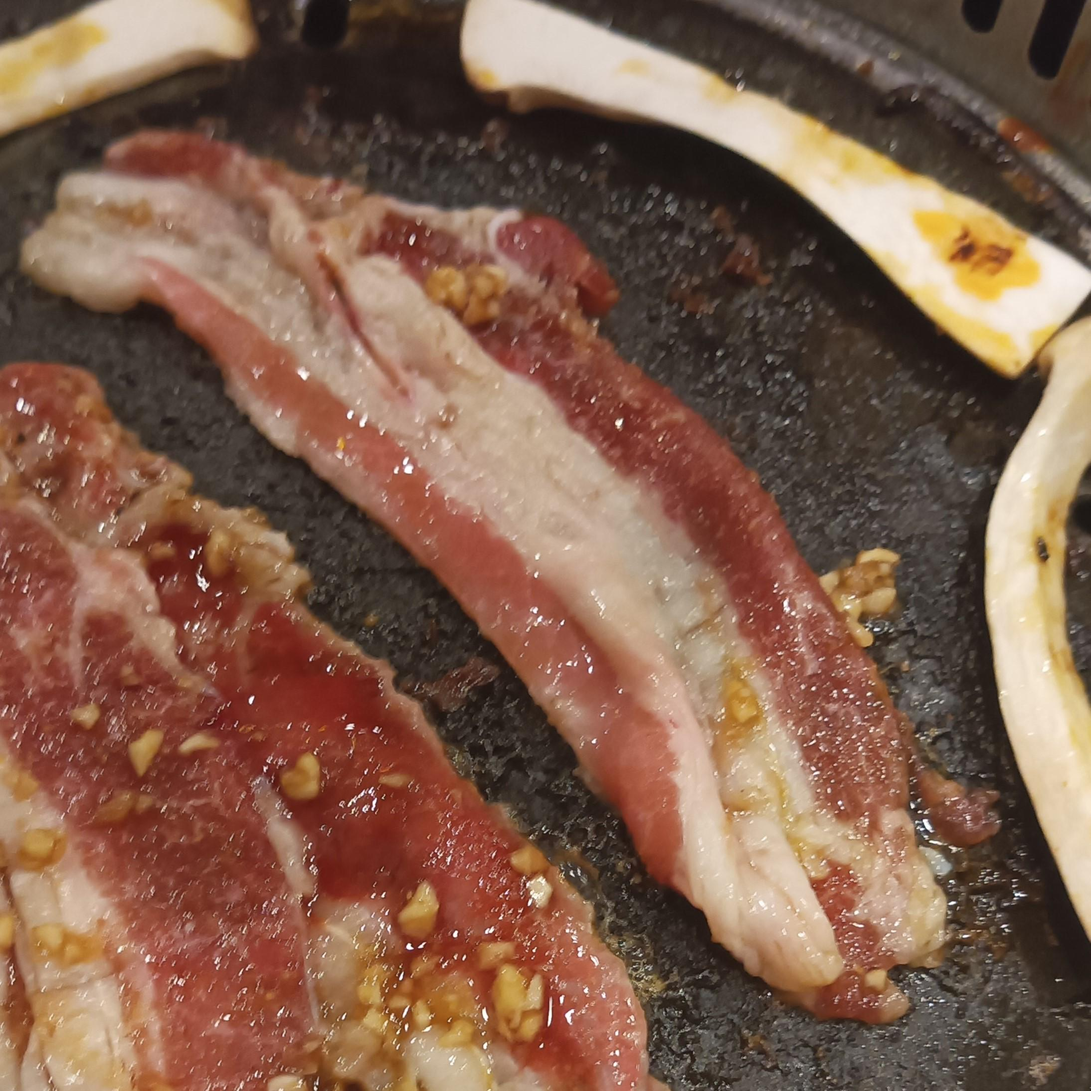Undercooked: (20, 129, 946, 1027), (0, 364, 660, 1091)
